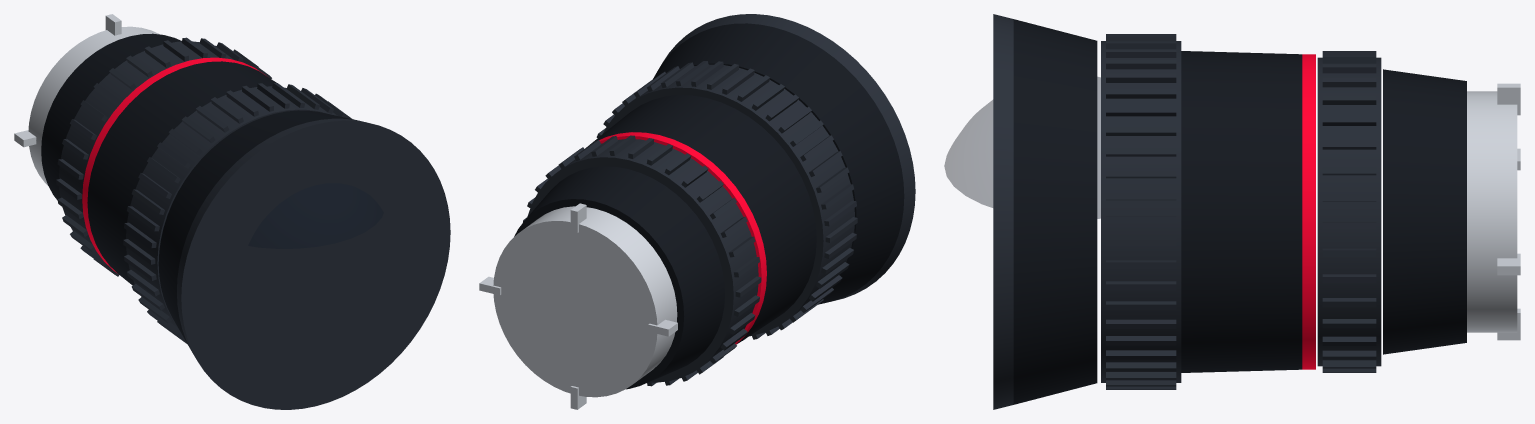
Rendered from hero-object.glb.
3 renders of one model, left to right at view 1: azimuth 30°, elevation 25°; view 2: azimuth 150°, elevation 25°; view 3: azimuth 270°, elevation 25°, orthographic. The views are drawn at different scales.
Visible parts, largest first — view 1: SpanStudio_CinemaLens_Prime50mm; view 2: SpanStudio_CinemaLens_Prime50mm; view 3: SpanStudio_CinemaLens_Prime50mm.
Part boxes in pixels (box(x1,y1,x2,y2)): SpanStudio_CinemaLens_Prime50mm: box(14, 14, 450, 409); SpanStudio_CinemaLens_Prime50mm: box(479, 14, 915, 409); SpanStudio_CinemaLens_Prime50mm: box(944, 14, 1520, 409).
Size of the model in its own units: 2.12 by 2.12 by 3.09.
